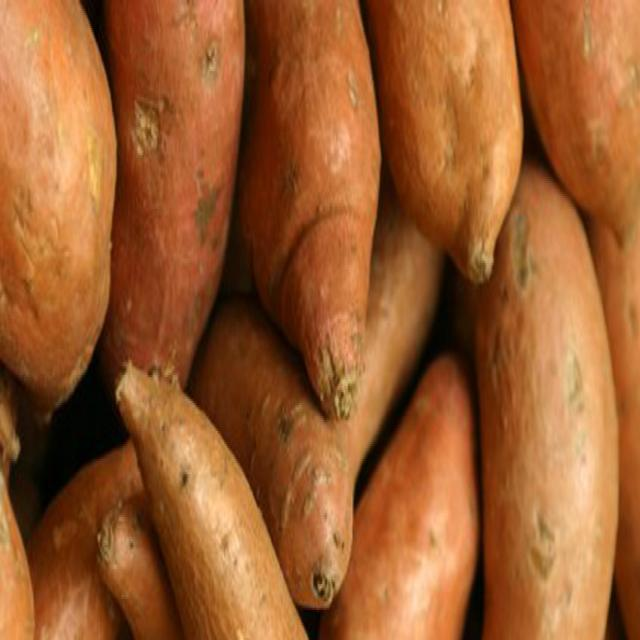Chilli Pepper: (0, 0, 478, 636), (478, 167, 618, 636), (367, 6, 521, 278)
